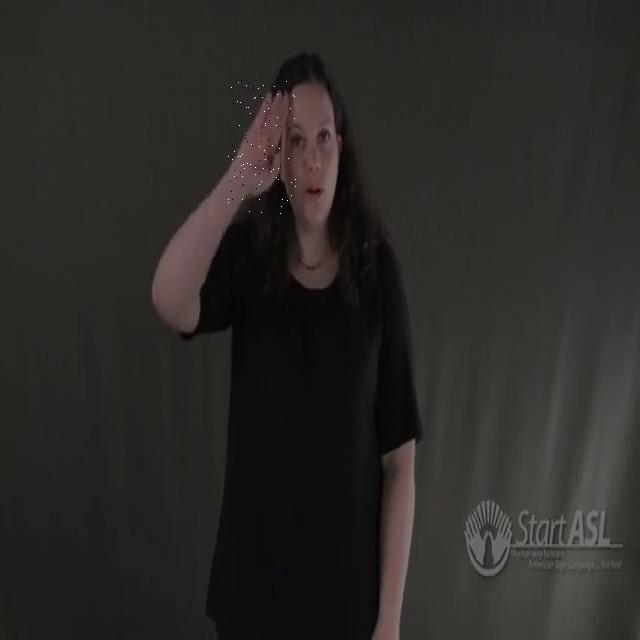hello: (228, 78, 296, 214)
